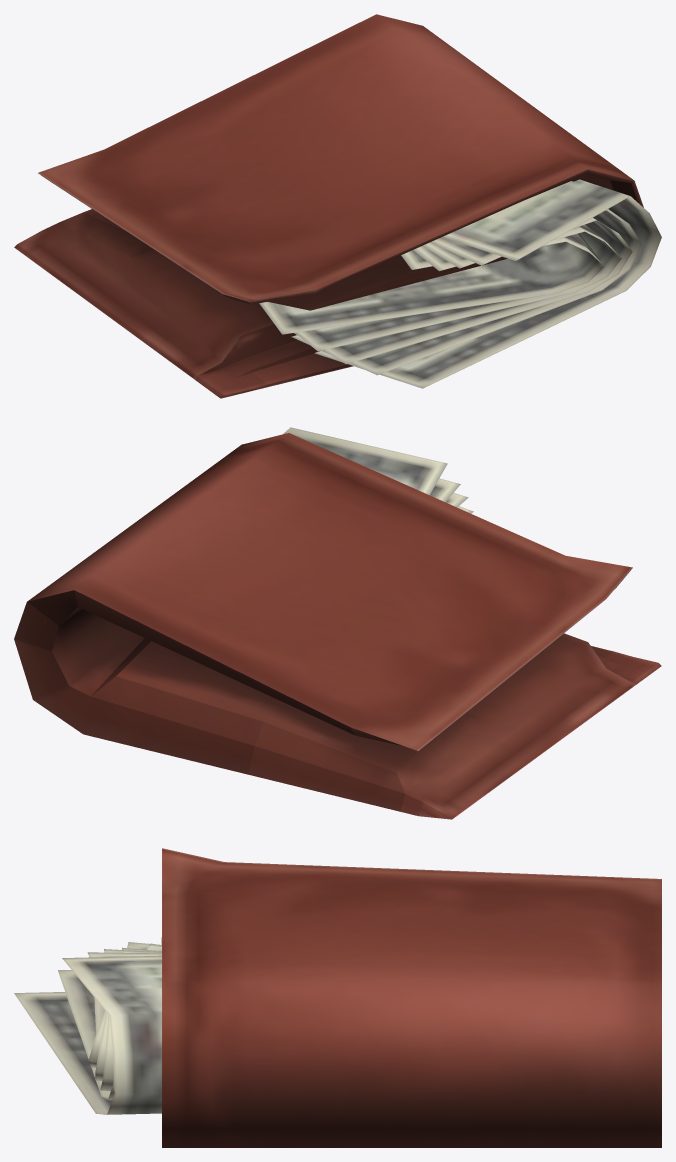
Rendered from PiErSenGongYu_01_qianbao_01.FBX.
3 renders of one model, top to bottom at view 1: azimuth 30°, elevation 25°; view 2: azimuth 150°, elevation 25°; view 3: azimuth 270°, elevation 25°, orthographic. The views are drawn at different scales.
Parts seen in each view (by area): view 1: PiErSenDeGongYu_qianbao_02; view 2: PiErSenDeGongYu_qianbao_02; view 3: PiErSenDeGongYu_qianbao_02.
Boxes of the visible parts, x1,y1,x2,y2 form: PiErSenDeGongYu_qianbao_02: (14,14,661,398); PiErSenDeGongYu_qianbao_02: (14,427,661,819); PiErSenDeGongYu_qianbao_02: (14,848,661,1147).
Bounding box in the file's own units: 53.18 × 16.78 × 59.17.
